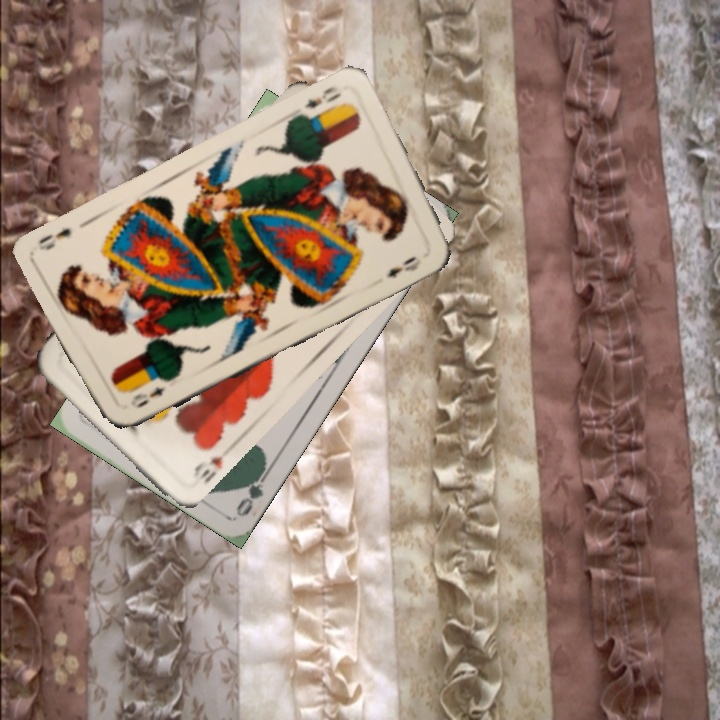EO: (300, 82, 344, 111), (126, 383, 167, 411)
GO: (232, 462, 273, 519)
H10: (188, 443, 235, 485)
